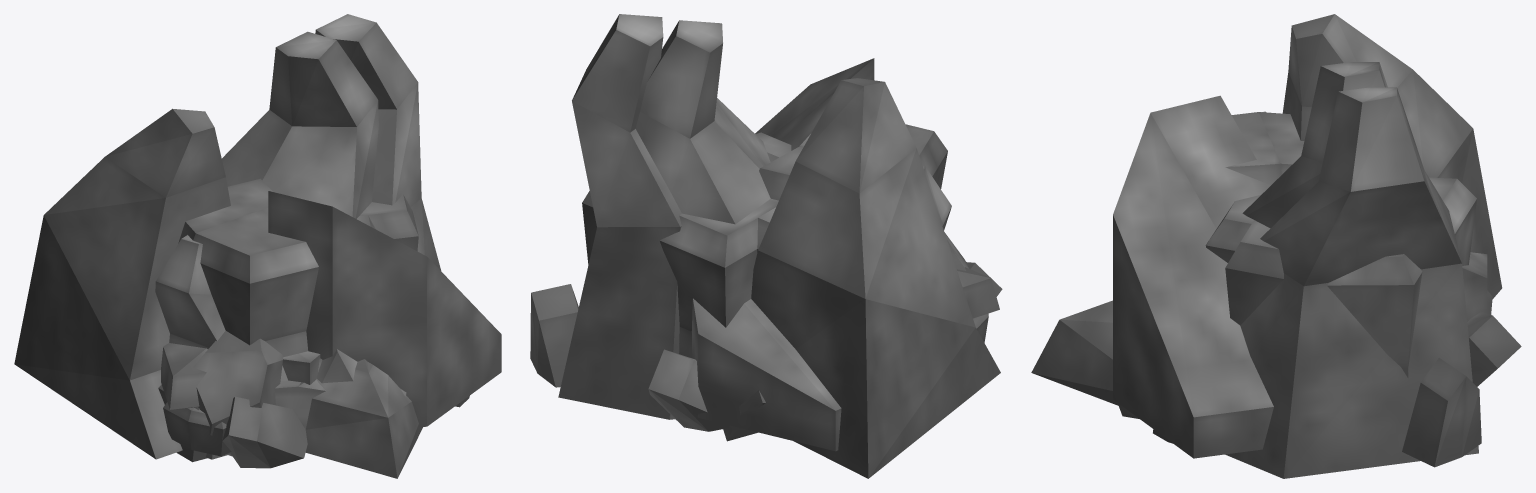
File: Rocks.fbx
3 views of the same model, side by side, from view 1: azimuth 30°, elevation 25°; view 2: azimuth 150°, elevation 25°; view 3: azimuth 270°, elevation 25° (orthographic). The views are drawn at different scales.
Visible parts, largest first — view 1: obj1_6, obj1_10, obj1_5, obj1_12, obj1_2, obj1_13, obj1; view 2: obj1_6, obj1_5, obj1_10, obj1_13, obj1_12; view 3: obj1_6, obj1_10, obj1_12, obj1_5, obj1_13.
Part boxes in pixels (x1,y1,x2,y2): obj1_6: [14, 14, 469, 478]; obj1_10: [268, 191, 501, 427]; obj1_5: [155, 31, 378, 459]; obj1_12: [163, 178, 418, 456]; obj1_2: [193, 330, 406, 456]; obj1_13: [158, 215, 375, 462]; obj1: [226, 351, 325, 454]; obj1_6: [530, 14, 1002, 478]; obj1_5: [636, 20, 951, 229]; obj1_10: [678, 58, 874, 451]; obj1_13: [659, 132, 999, 358]; obj1_12: [582, 124, 988, 342]; obj1_6: [1031, 14, 1521, 478]; obj1_10: [1113, 95, 1487, 458]; obj1_12: [1225, 112, 1422, 377]; obj1_5: [1242, 62, 1387, 228]; obj1_13: [1205, 177, 1476, 265].
Size of the model in its own units: 230 by 213 by 257.
Materials: 1 (1 with a texture image).
